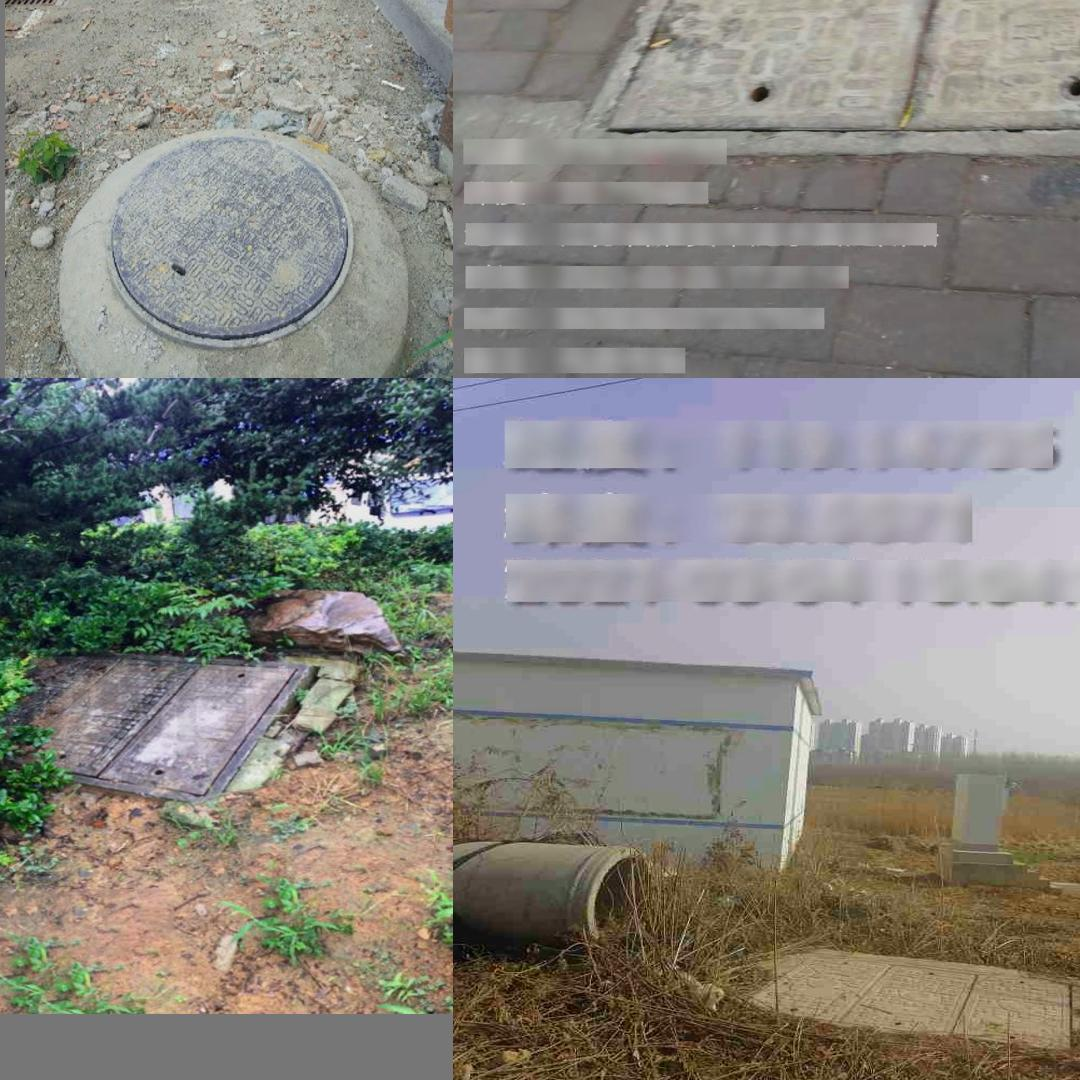good: (578, 0, 1080, 156), (106, 136, 354, 351), (10, 647, 313, 801), (742, 946, 1080, 1056)
